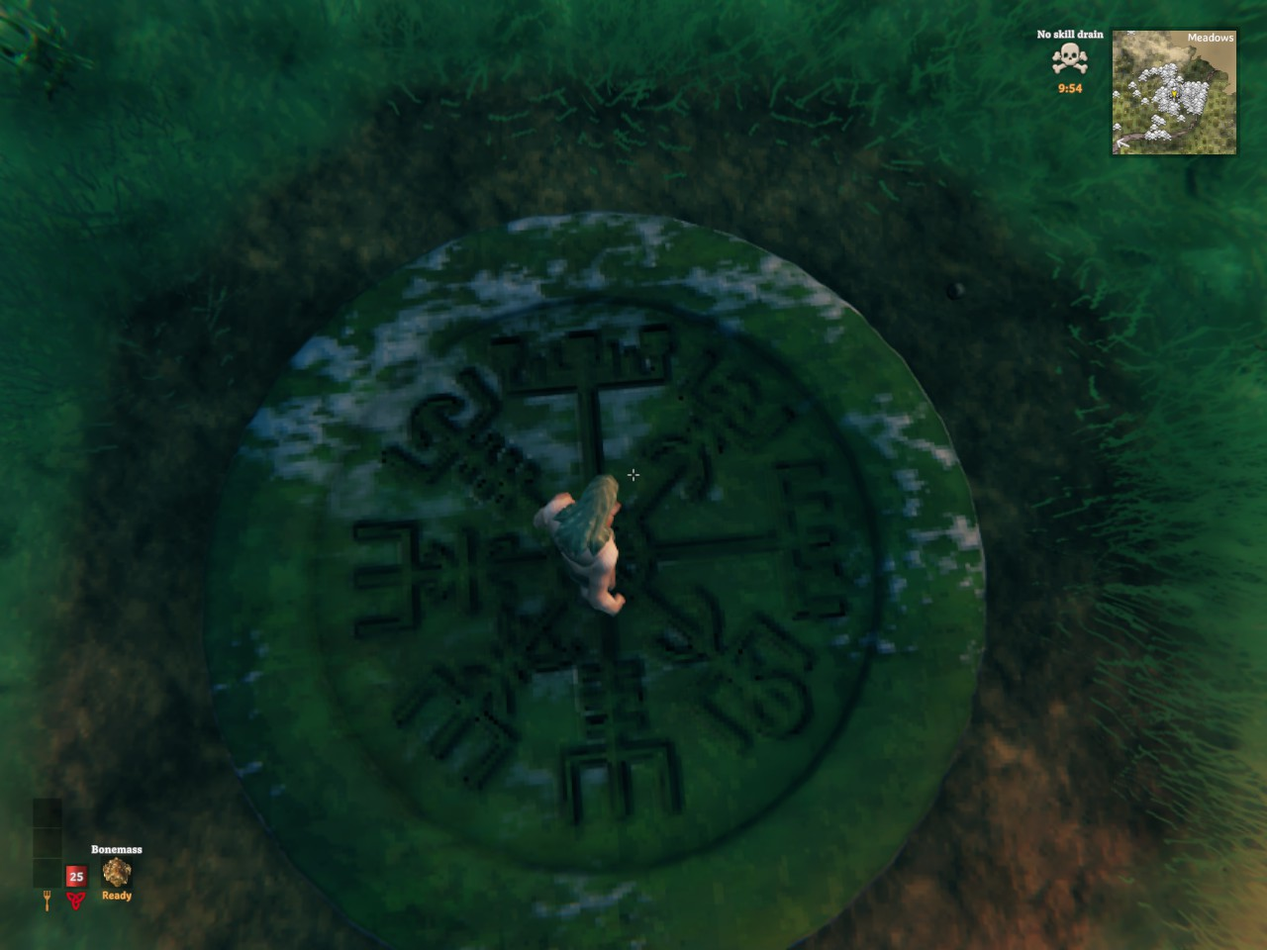Spawn Point: (204, 212, 985, 949)
